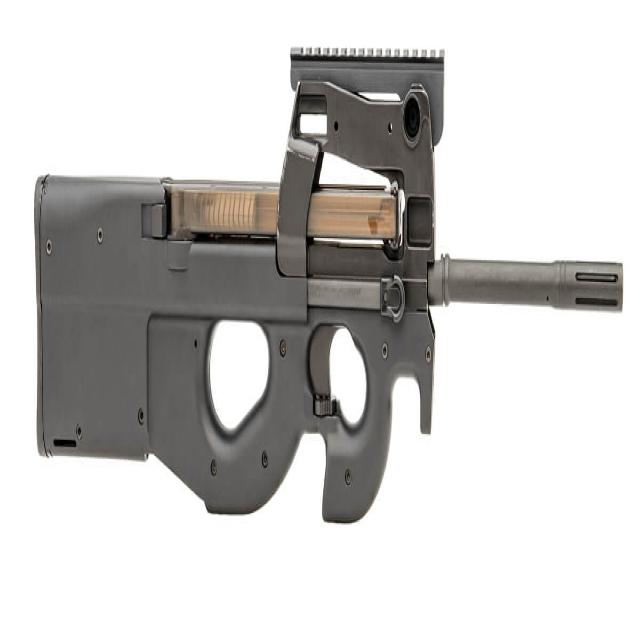SMG: (32, 48, 621, 526)
